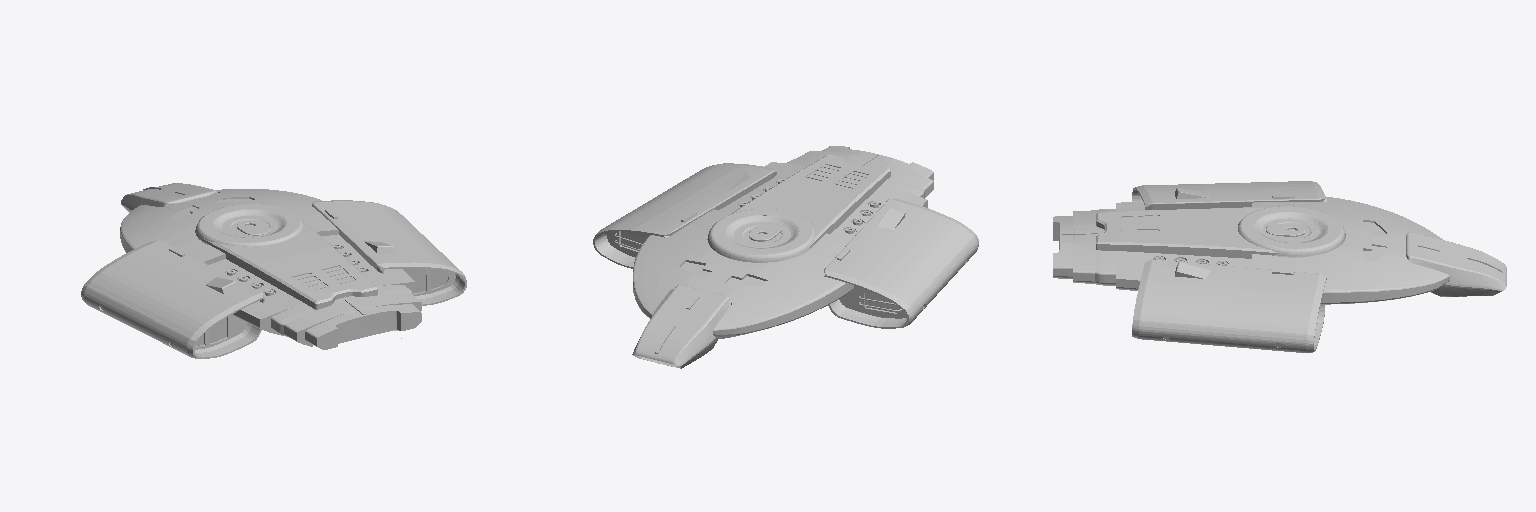
Rendered from defiant-0.25.obj.
3 renders of one model, left to right at view 1: azimuth 30°, elevation 25°; view 2: azimuth 150°, elevation 25°; view 3: azimuth 270°, elevation 25°, orthographic.
Visible parts, largest first — view 1: Antrieb1; view 2: Antrieb1; view 3: Antrieb1.
Part boxes in pixels (left/top/right/bottom): Antrieb1: left=81, top=183, right=466, bottom=358; Antrieb1: left=593, top=146, right=978, bottom=368; Antrieb1: left=1053, top=181, right=1506, bottom=352.
Bounding box in the file's own units: 4.14 × 0.7571 × 5.12.